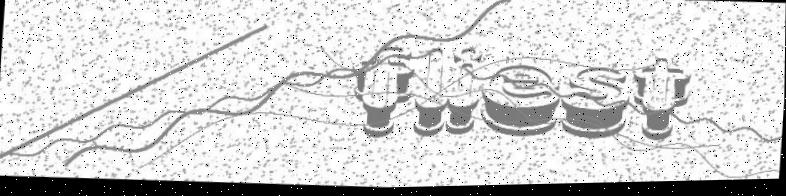e: (477, 63, 561, 140)
f: (350, 44, 416, 144)
i: (444, 42, 485, 138)
l: (410, 47, 451, 140)
s: (557, 64, 633, 148)
t: (623, 59, 690, 145)
